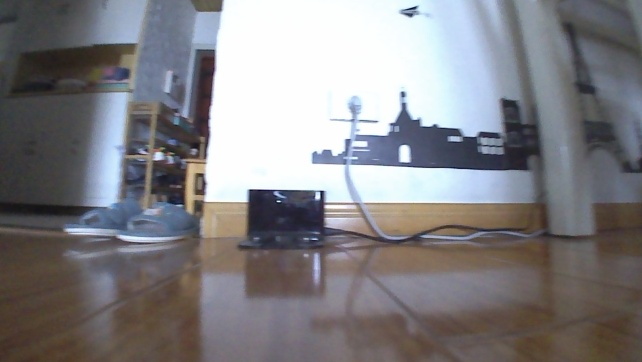charger: (233, 185, 328, 250)
slipper: (115, 201, 201, 245), (60, 195, 143, 237)
wire: (323, 111, 550, 244)
